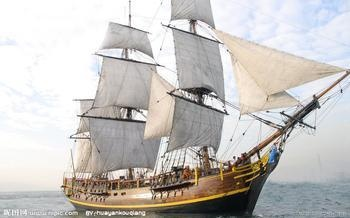fanchuan: (58, 1, 350, 214)
